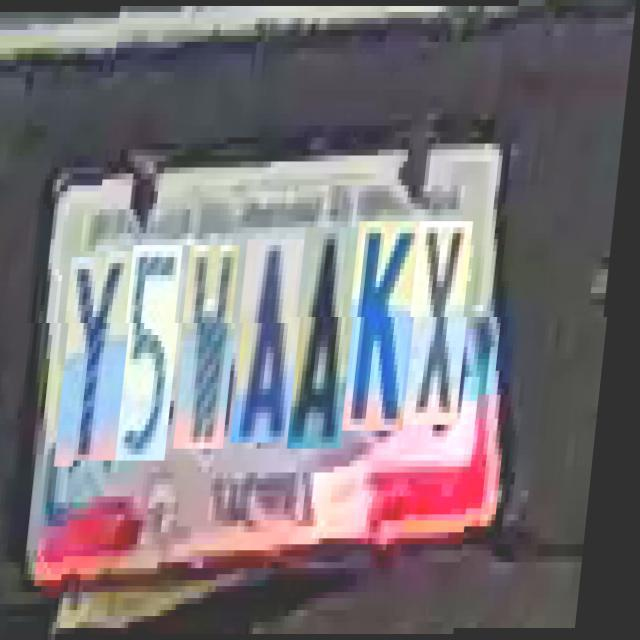5: (125, 245, 192, 460)
A: (297, 227, 368, 449), (240, 239, 314, 443)
K: (351, 221, 429, 431)
W: (183, 246, 249, 448)
X: (412, 222, 482, 424)
Y: (64, 251, 142, 461)
